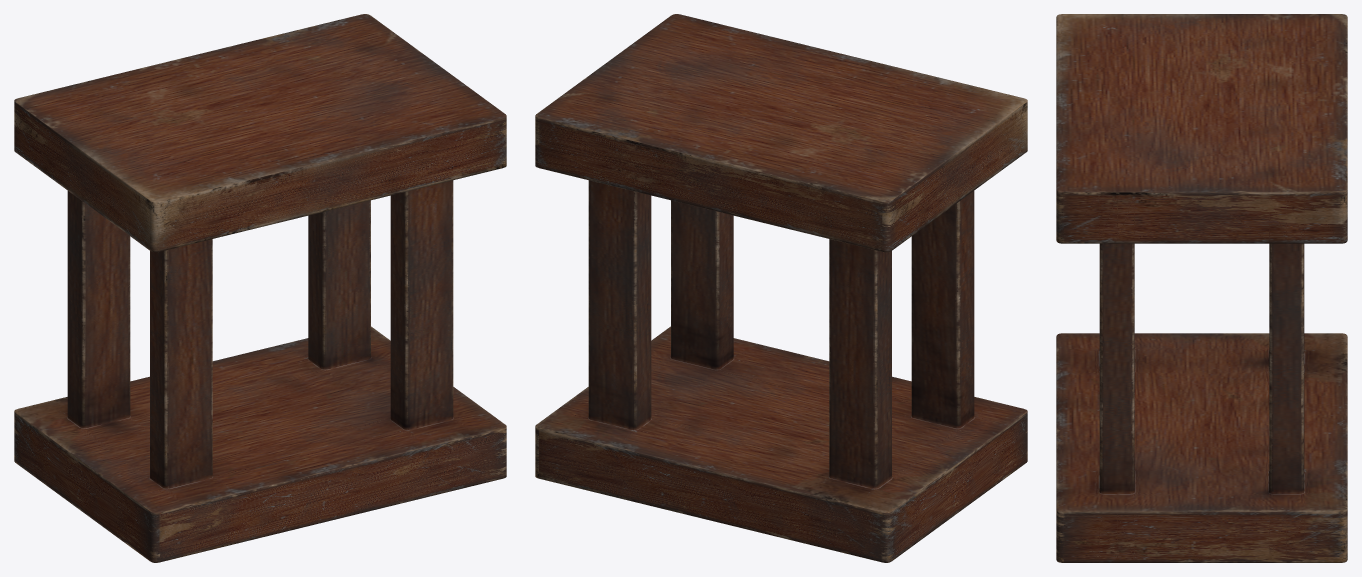
The model's file is SM_WoodenStep.fbx.
3 renders of one model, left to right at view 1: azimuth 30°, elevation 25°; view 2: azimuth 150°, elevation 25°; view 3: azimuth 270°, elevation 25°, orthographic. The views are drawn at different scales.
Visible parts, largest first — view 1: SM_WoodenStep; view 2: SM_WoodenStep; view 3: SM_WoodenStep.
Boxes of the visible parts, bbox=[...] form: SM_WoodenStep: bbox=[14, 14, 506, 562]; SM_WoodenStep: bbox=[535, 14, 1027, 562]; SM_WoodenStep: bbox=[1056, 14, 1347, 562].
Bounding box in the file's own units: 30.65 × 29.8 × 21.15.
1 material, 1 textured.
